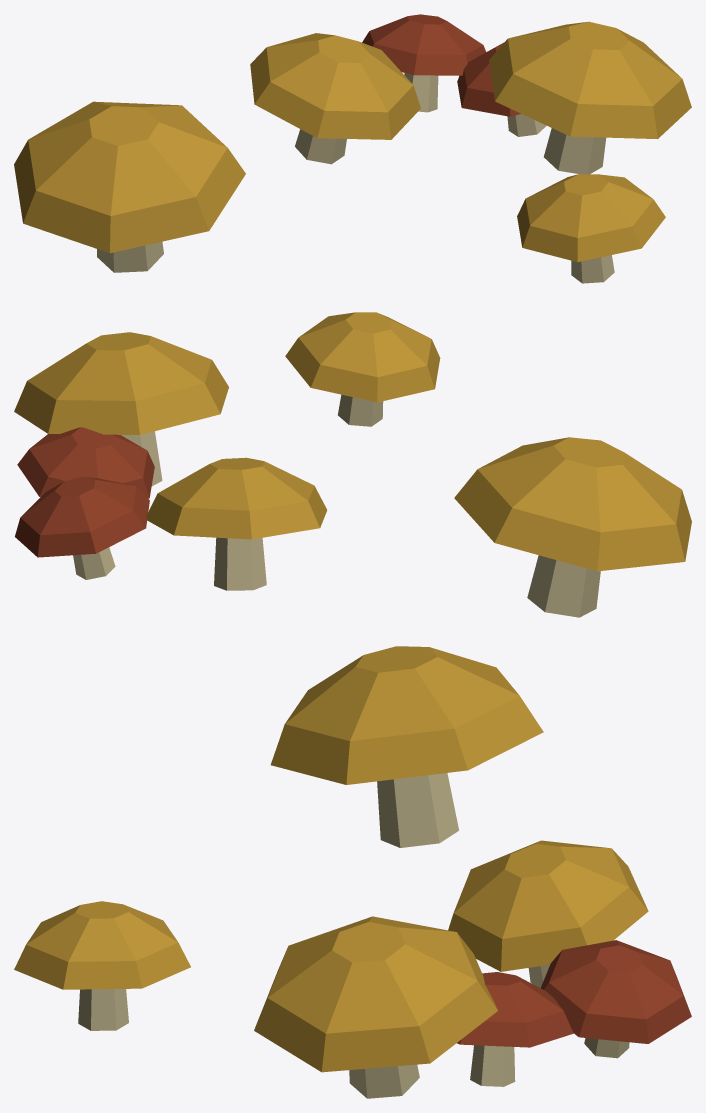
Rendered from cogumelos.glb.
The picture shows the model from 3 angles, top to bottom: view 1: azimuth 30°, elevation 25°; view 2: azimuth 150°, elevation 25°; view 3: azimuth 270°, elevation 25°; orthographic projection. The views are drawn at different scales.
Visible parts, largest first — view 1: cogumelos.001; view 2: cogumelos.001; view 3: cogumelos.001.
Part boxes in pixels (x1,y1,x2,y2): cogumelos.001: (14, 14, 691, 283); cogumelos.001: (14, 312, 691, 617); cogumelos.001: (14, 646, 691, 1098).
Size of the model in its own units: 0.5985 by 0.1376 by 0.4721.
